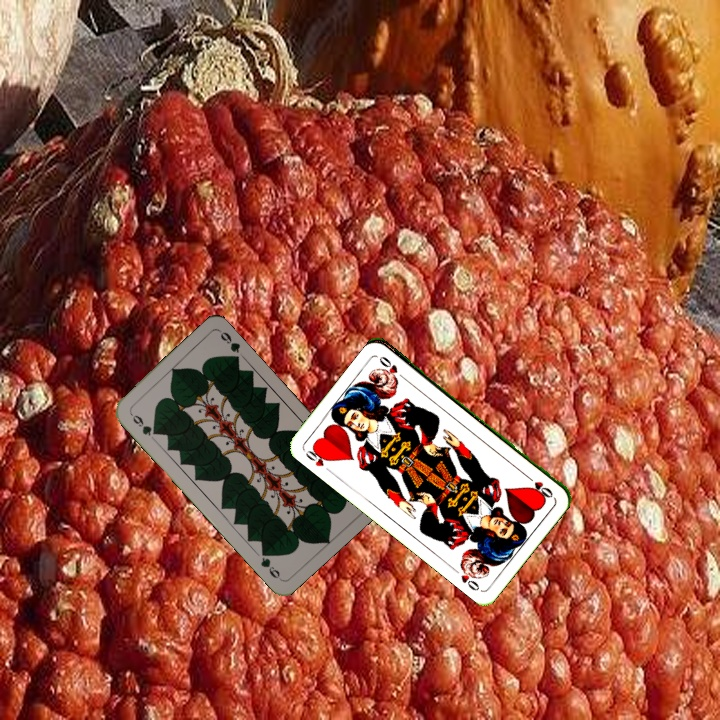G9: (126, 409, 160, 439)
HO: (300, 443, 335, 476), (521, 471, 556, 500)
